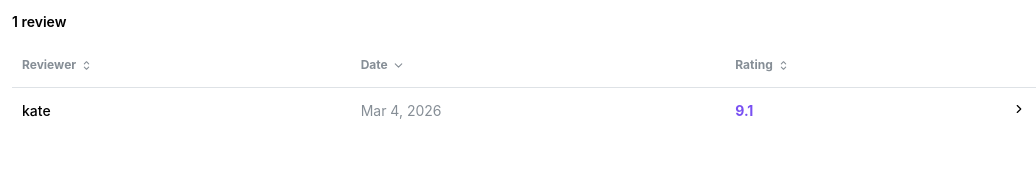
Test case: AlbumReviewsTable › notes a review left without any text
Click the text "kate".
click(36, 110)  # box top-left (22, 102), bottom-right (51, 119)
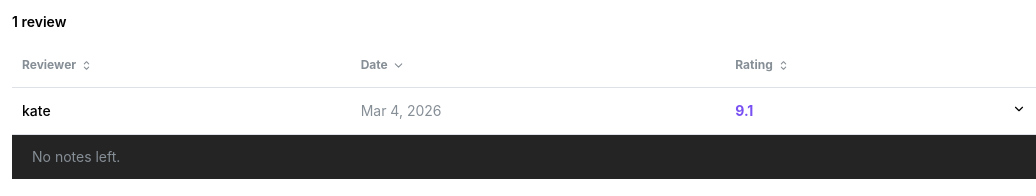
Expected: the text "No notes left." is shown, top-left (32, 148), bottom-right (120, 165)
